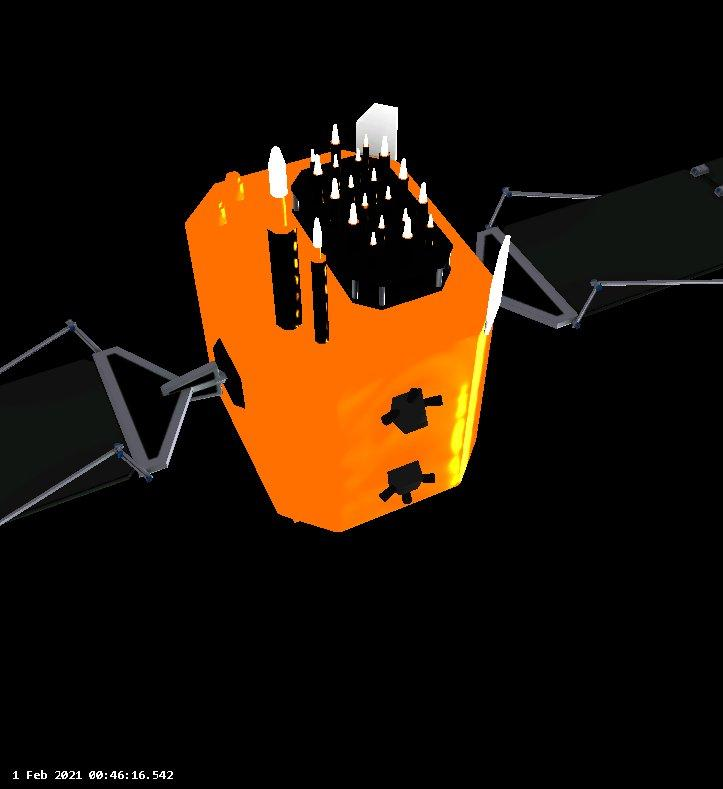antenna: (265, 141, 304, 335), (309, 211, 334, 344)
body: (182, 148, 502, 536)
solar: (496, 156, 723, 320), (0, 354, 137, 540)
thruster: (422, 391, 447, 413), (379, 406, 404, 427), (377, 482, 399, 504), (405, 383, 424, 408), (399, 484, 416, 507), (418, 471, 440, 487)
